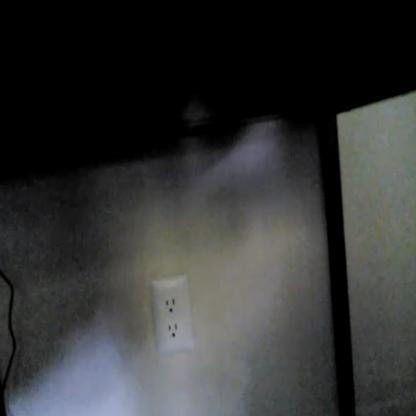OUTLET: (150, 274, 193, 356)
